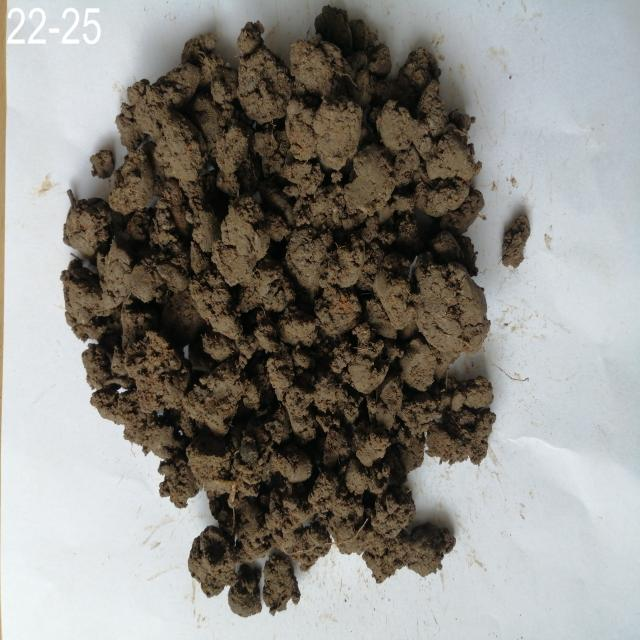soil: (154, 99, 426, 487)
